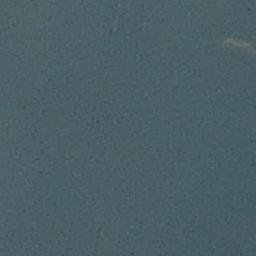debris: (221, 38, 255, 51)
